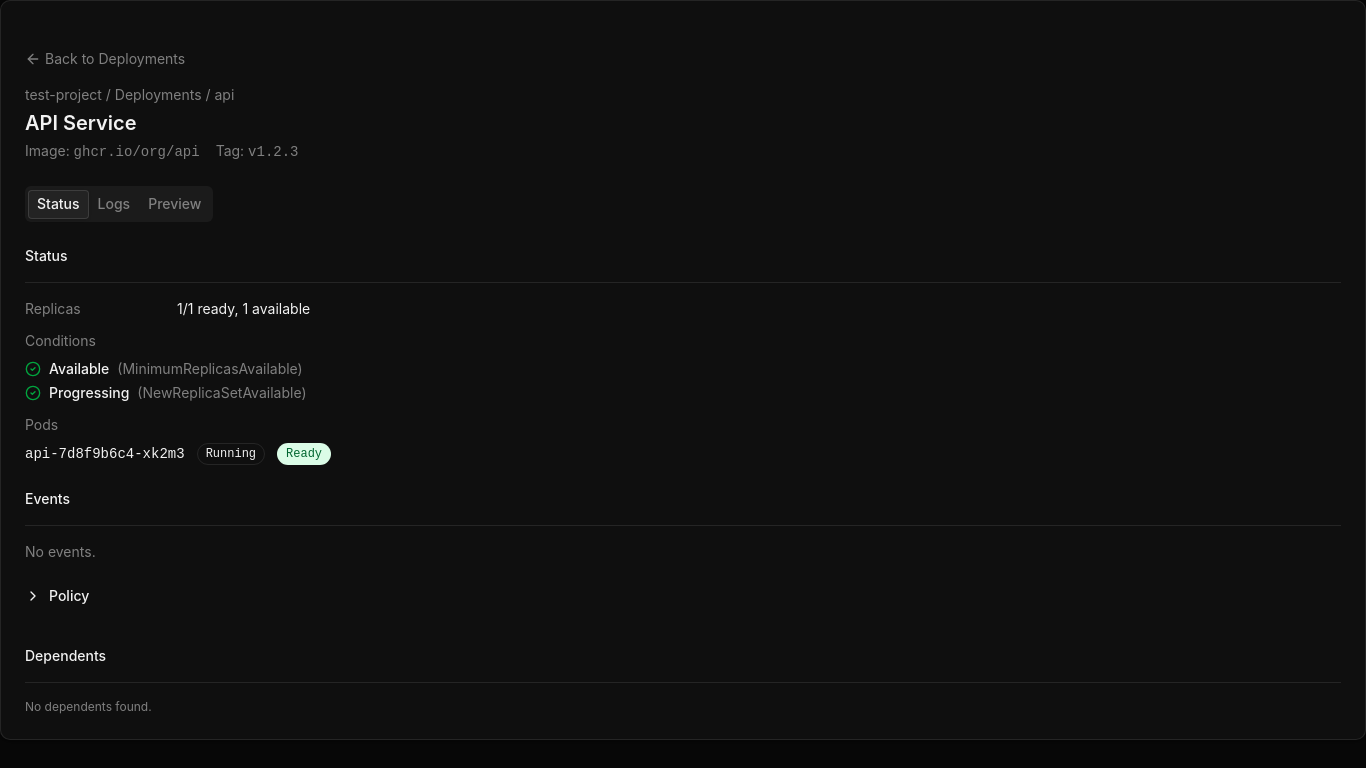
Test: DeploymentDetailPage › switches to Logs tab when clicked and shows log viewer
The width and height of the screenshot is (1366, 768).
What coordinates should you click on to do the following:
click the tab "Logs"
I would click on:
 (114, 204)
Its box is left=89, top=190, right=139, bottom=218.
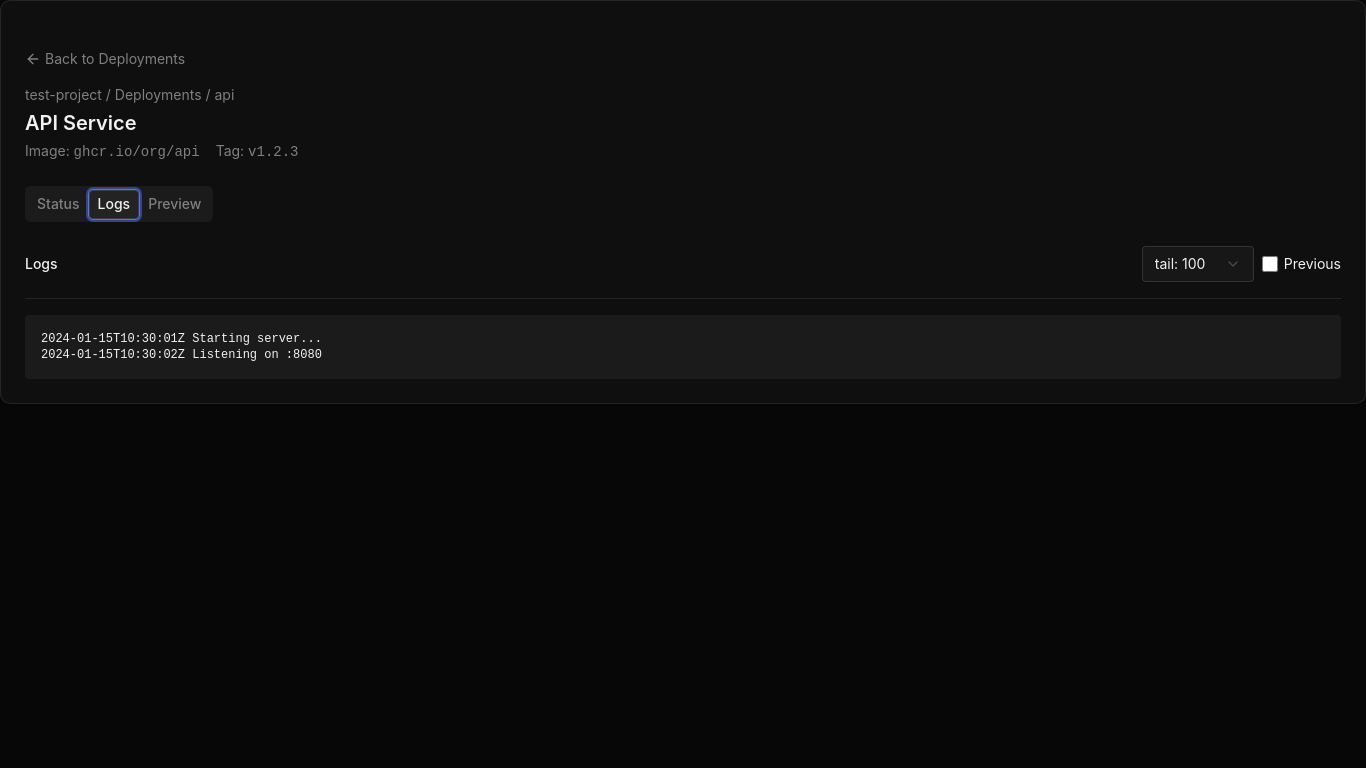
Check: the text "Starting server" is shown, box left=41, top=332, right=322, bottom=362
